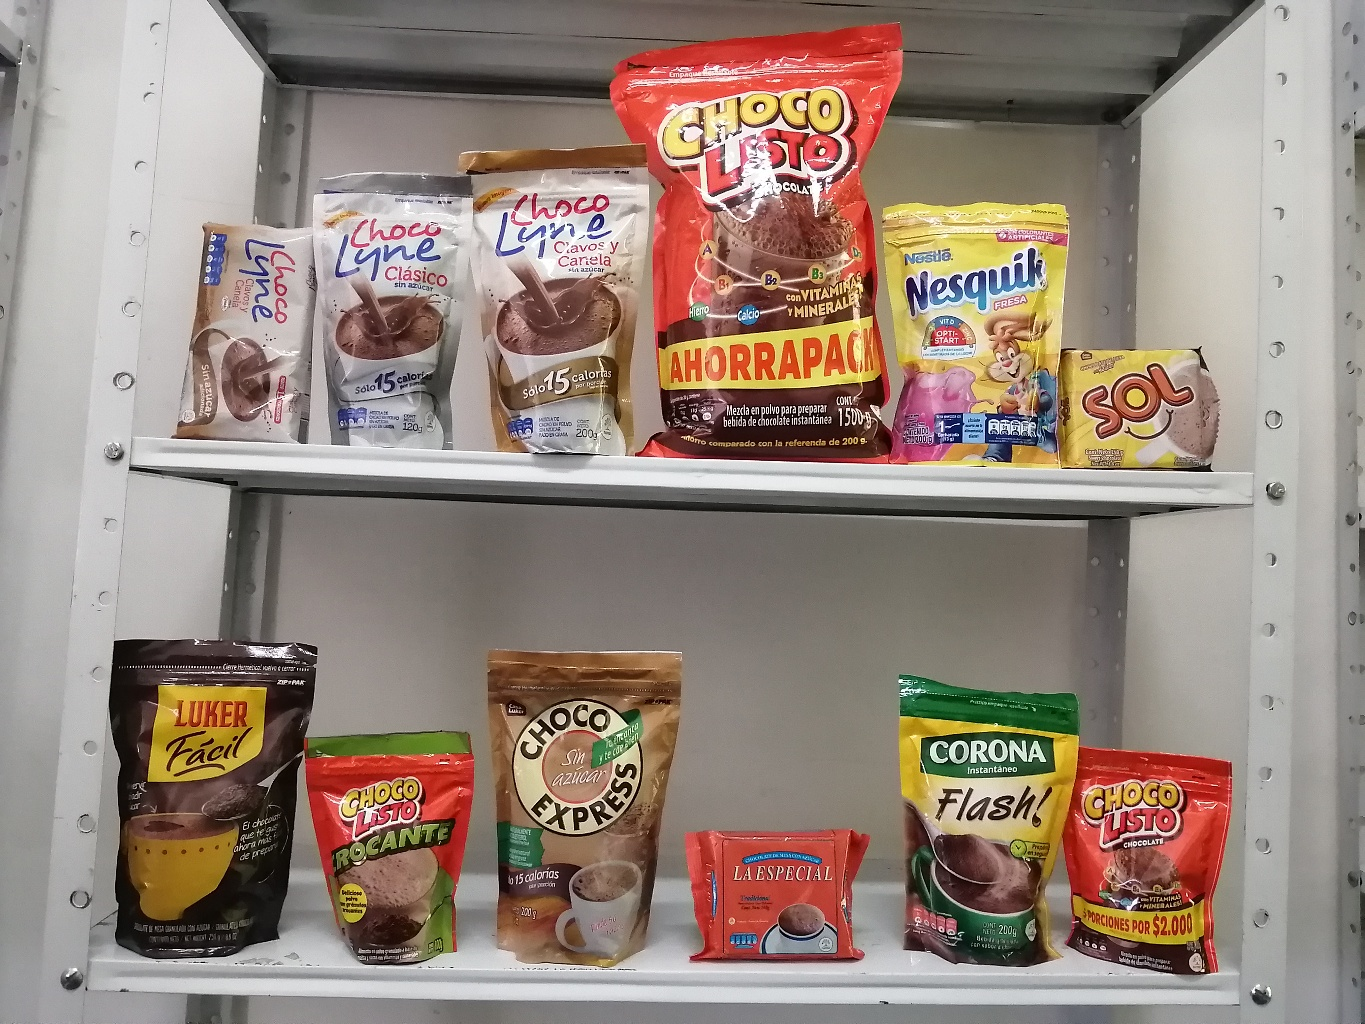COL0170102DYP10000: (292, 712, 512, 983)
COL0170103DYP1,500: (597, 2, 935, 474)
COL0170305DYP20000: (854, 180, 1090, 472)
